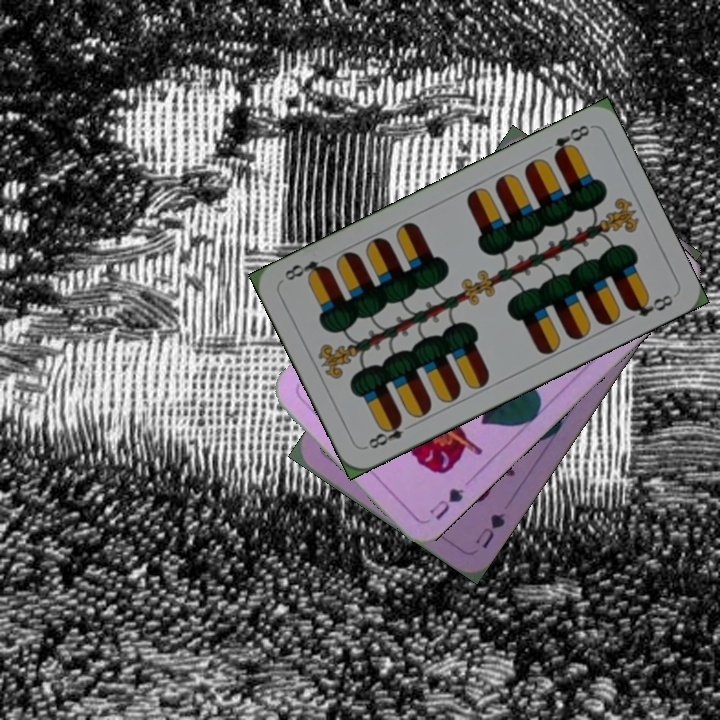E8: (361, 415, 417, 452), (549, 121, 593, 161)
GU: (425, 484, 467, 523), (471, 508, 508, 552)
